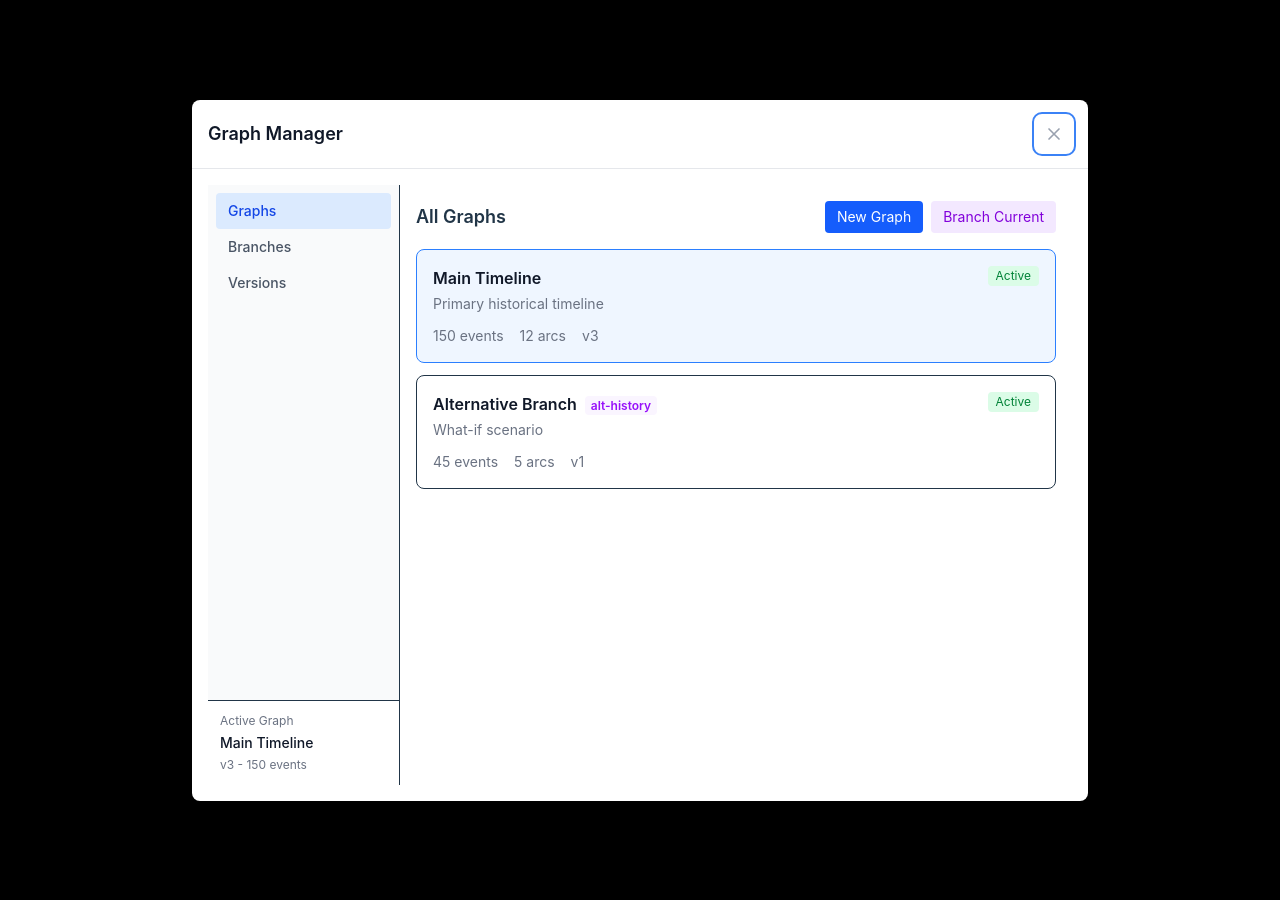
GraphManagerModal › Delete Confirmation Dialog › should show delete confirmation dialog
Click the text "Alternative Branch".
click(736, 432)  # box [416, 374, 1056, 488]
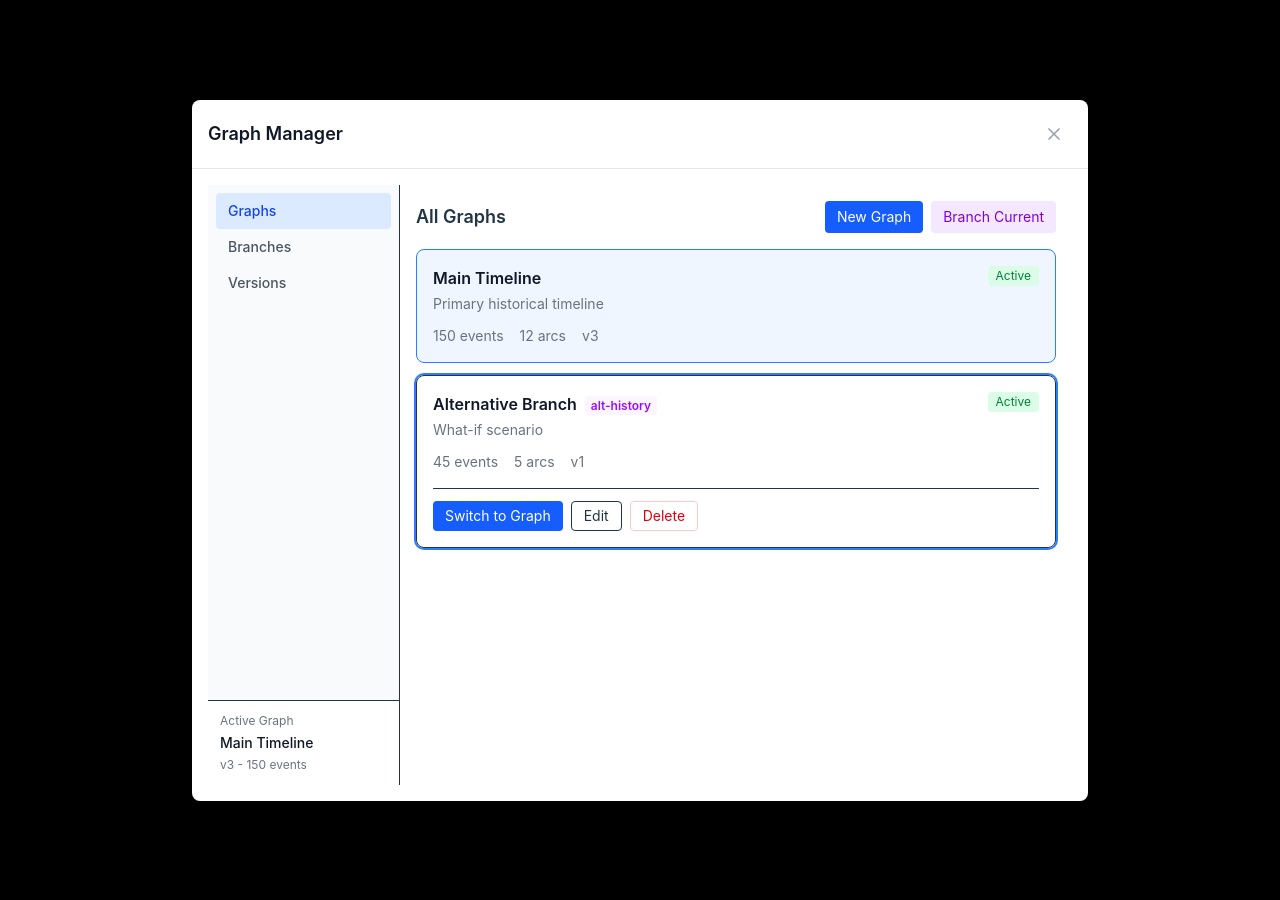
Click the button "Delete".
click(664, 516)  # box [630, 500, 698, 530]
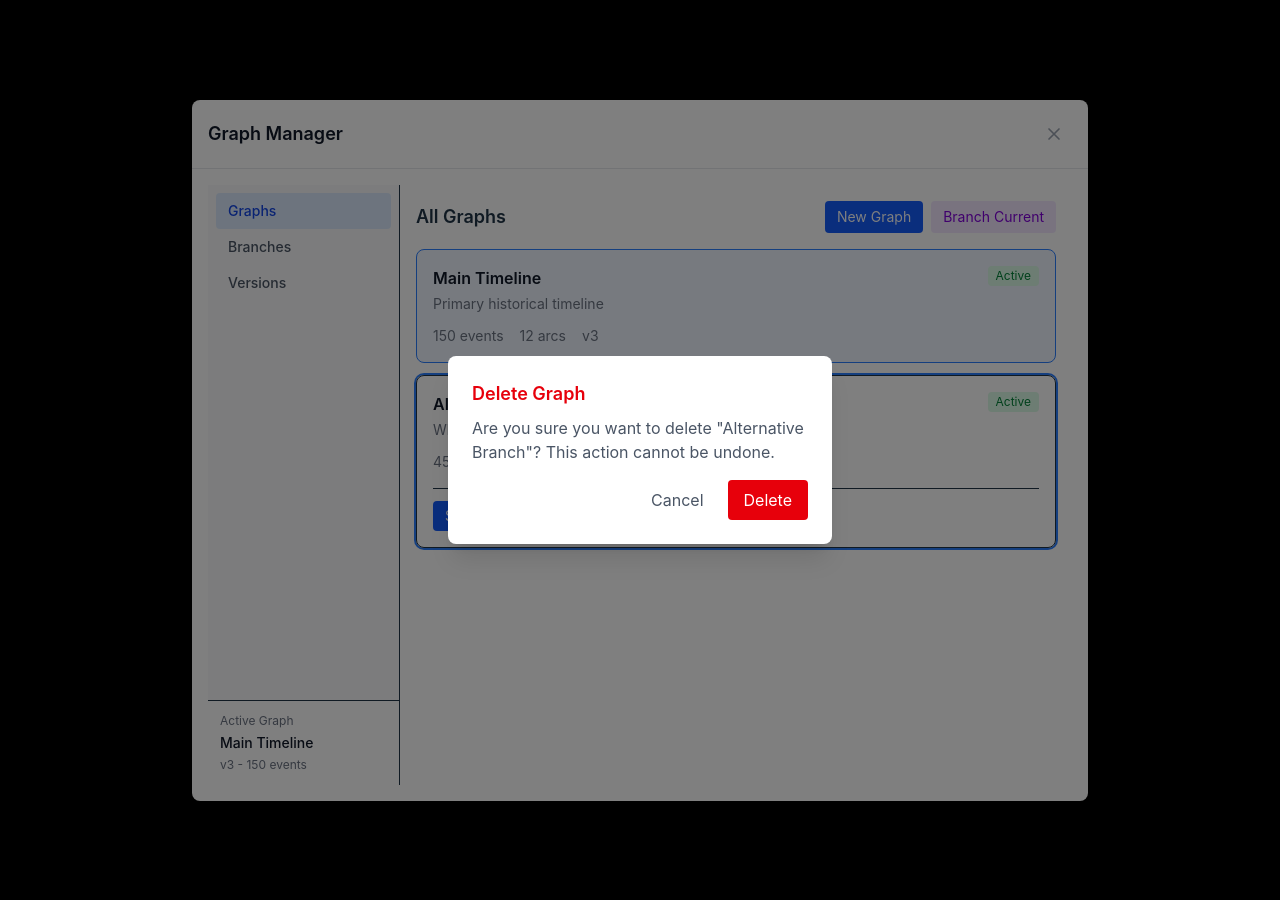
Check: the heading "Delete Graph" is shown, box [472, 383, 585, 404]
Check: the text "Are you sure you want to delete \"Alternative Branch\"?" is shown, box [472, 416, 808, 464]
